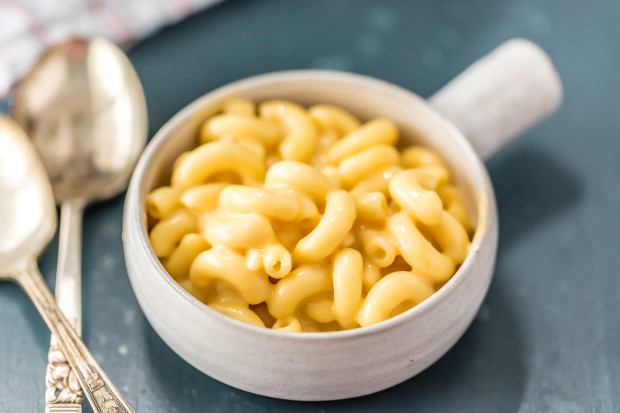macncheese: (145, 92, 476, 333)
